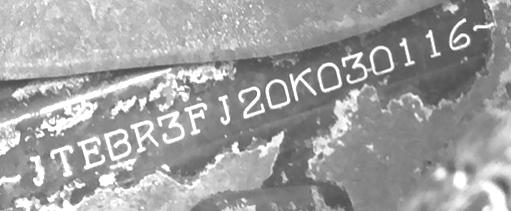letter: (74, 131, 108, 171), (128, 116, 159, 155), (288, 66, 318, 105), (155, 108, 187, 143), (340, 49, 371, 85), (236, 84, 265, 121), (261, 77, 293, 110), (367, 42, 397, 77), (103, 127, 133, 161), (183, 101, 212, 136), (447, 14, 472, 51), (314, 59, 342, 92), (50, 142, 75, 176), (420, 26, 444, 60), (25, 153, 46, 187), (215, 93, 235, 128), (397, 35, 417, 68)
